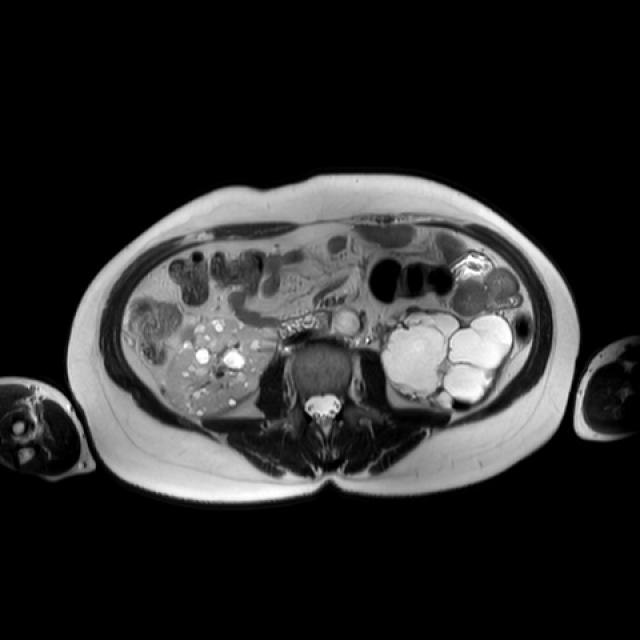sag: (166, 319, 277, 417)
sol: (382, 307, 513, 409)
